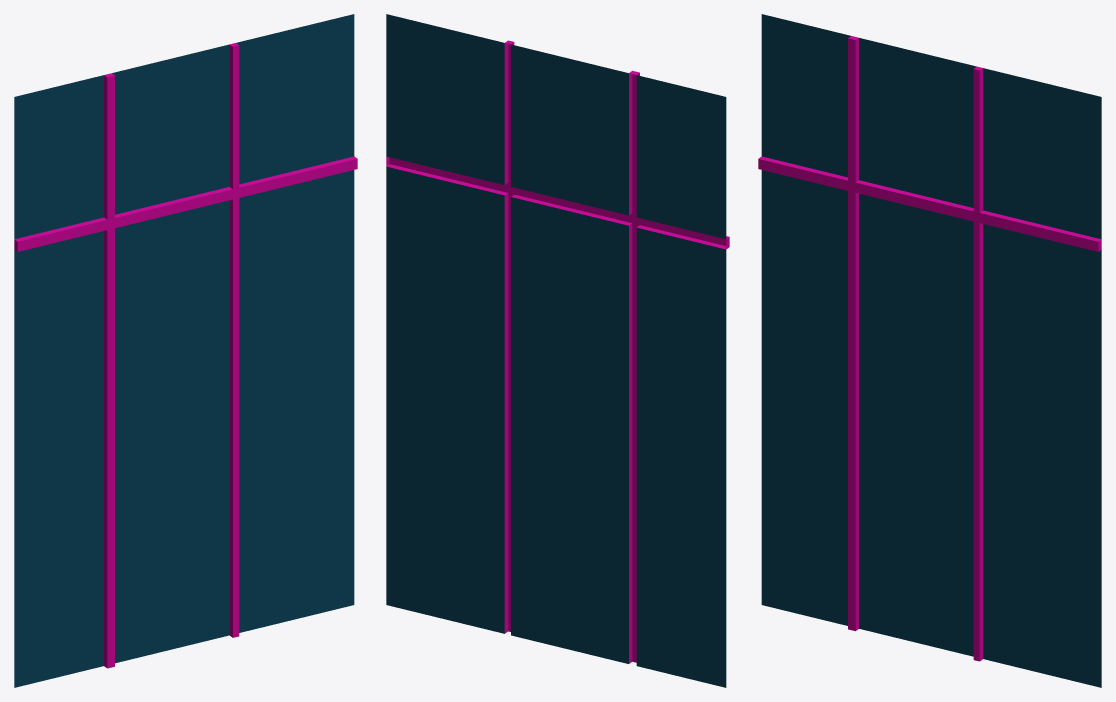
Rendered from short_wall_steeL_glass.fbx.
3 renders of one model, left to right at view 1: azimuth 30°, elevation 25°; view 2: azimuth 150°, elevation 25°; view 3: azimuth 330°, elevation 25°, orthographic.
Parts seen in each view (by area): view 1: short_wall; view 2: short_wall; view 3: short_wall.
Part boxes in pixels (x1,y1,x2,y2): short_wall: (14, 14, 357, 687); short_wall: (386, 14, 729, 687); short_wall: (758, 14, 1101, 687).
Size of the model in its own units: 188 by 312 by 3.25.
